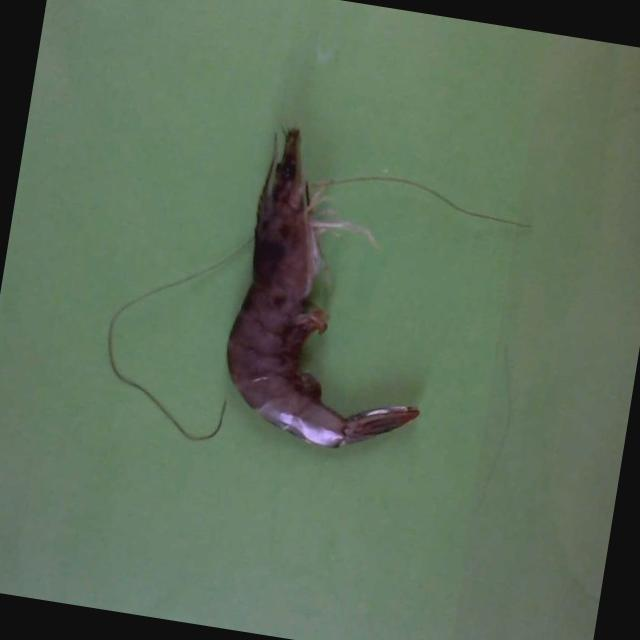shrimp: (227, 127, 420, 446)
